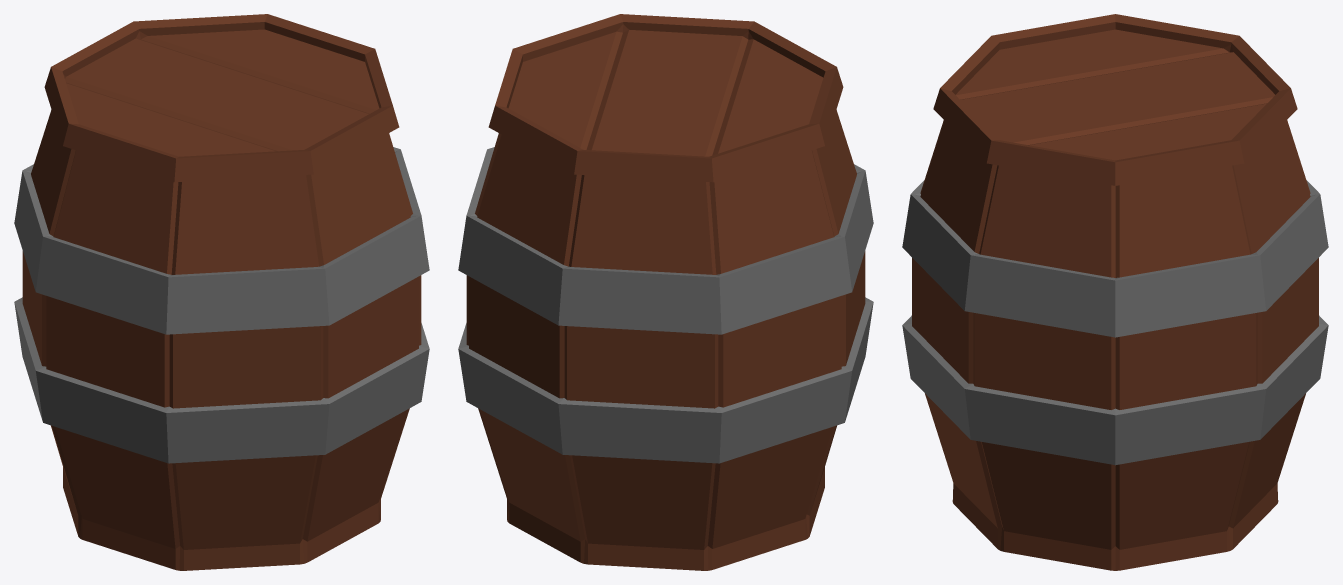
The model's file is Barrel_Brown_Red.glb.
The picture shows the model from 3 angles, left to right: view 1: azimuth 30°, elevation 25°; view 2: azimuth 150°, elevation 25°; view 3: azimuth 270°, elevation 25°; orthographic projection.
Parts seen in each view (by area): view 1: Barrel_Red_Brown; view 2: Barrel_Red_Brown; view 3: Barrel_Red_Brown.
Part boxes in pixels (x1=…): Barrel_Red_Brown: x1=14, y1=14, x2=429, y2=570; Barrel_Red_Brown: x1=458, y1=14, x2=873, y2=570; Barrel_Red_Brown: x1=902, y1=14, x2=1328, y2=570.
Bounding box in the file's own units: 2.6 × 2.79 × 2.6.
